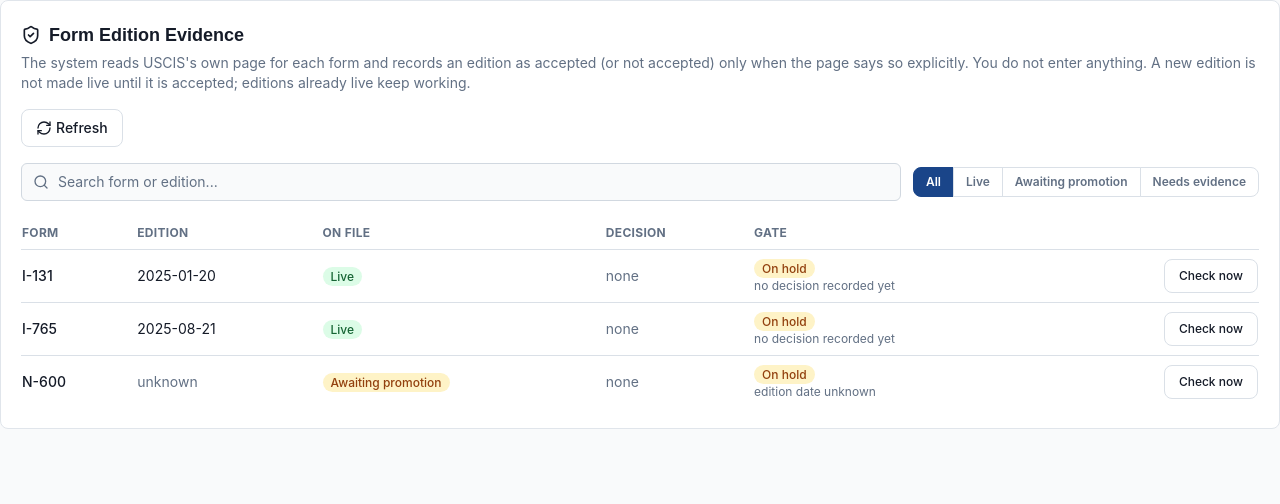
Test case: FormEditionEvidenceSection › says plainly when nothing was recorded (no explicit statement, fetch failure) so nobody thinks it was accepted
The width and height of the screenshot is (1280, 504).
Expected: the text "I-765" is shown, x1=21 y1=302 x2=136 y2=356
Click the button "Check now" in the row of "I-131": coordinates (1211, 276) x1=1164 y1=259 x2=1258 y2=293
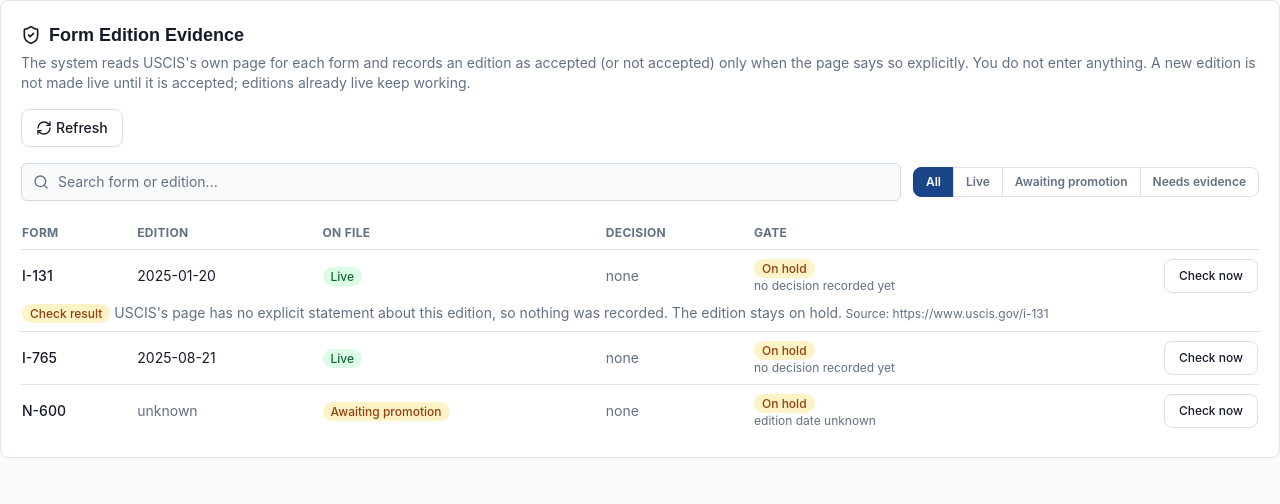
Click the button "Check now" in the row of "I-765": coordinates (1211, 358) x1=1164 y1=341 x2=1258 y2=375
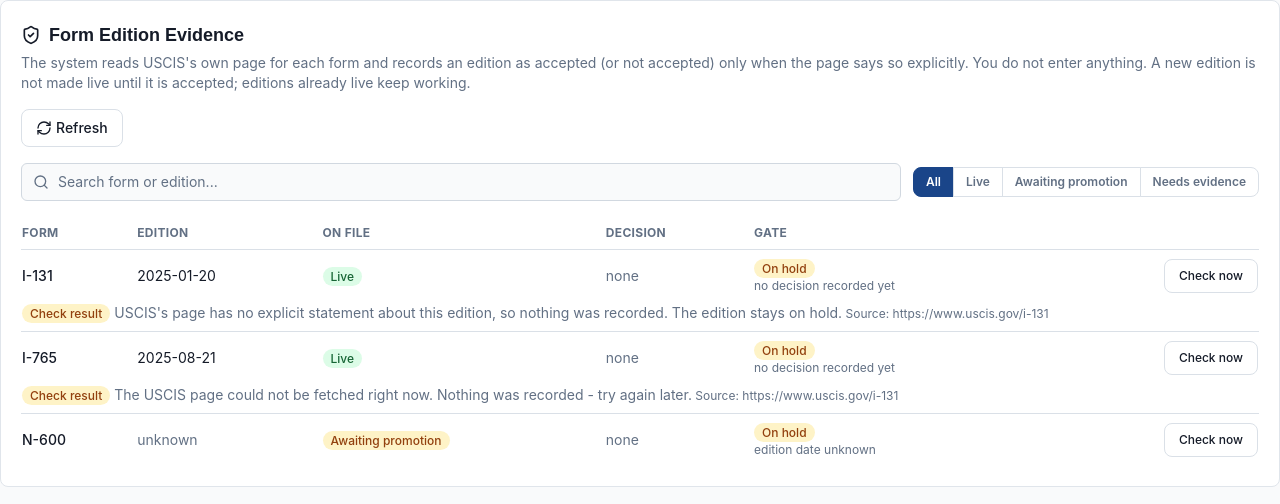
Expected: the number of rows with test id "check-outcome" is 2, x1=21 y1=302 x2=1259 y2=332; x1=21 y1=384 x2=1259 y2=414
